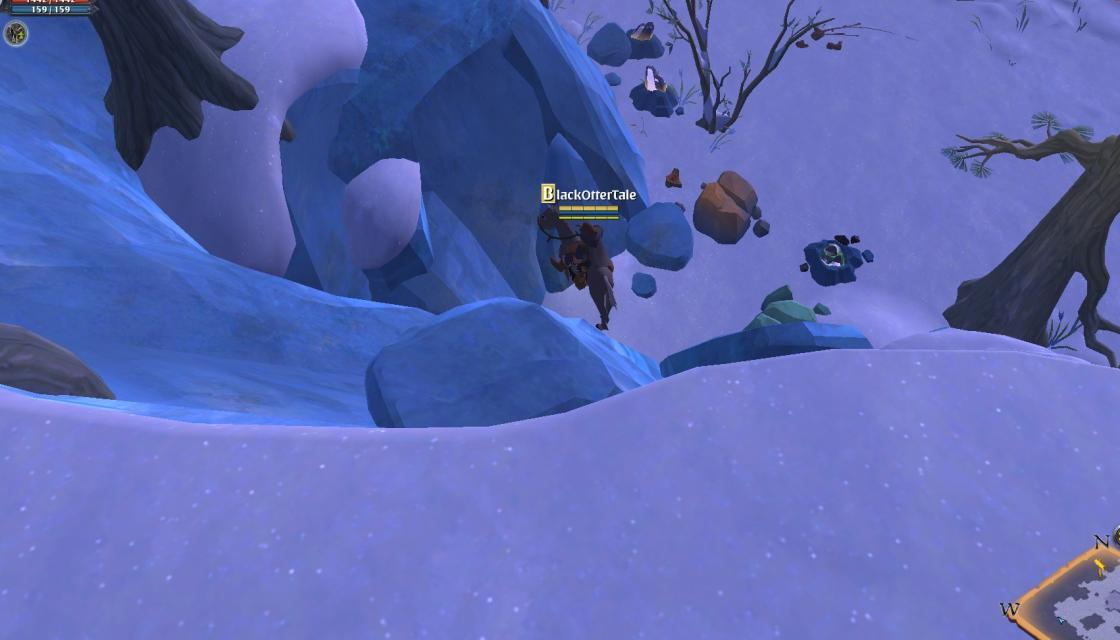copperore: (627, 63, 686, 122), (621, 19, 671, 62)
limestone: (690, 166, 767, 248)
sandstone: (744, 286, 824, 334)
